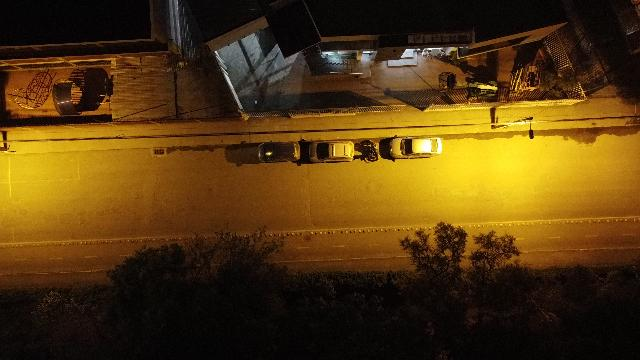Vehiculo: (389, 138, 442, 159), (309, 141, 355, 162), (258, 141, 300, 162)
